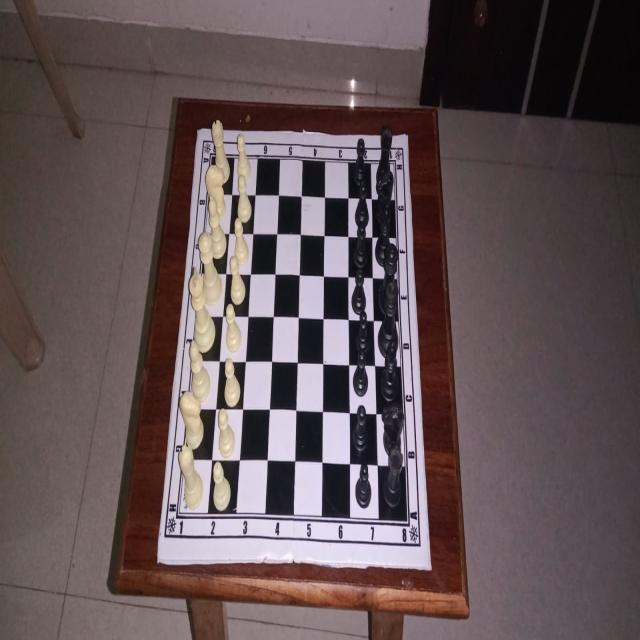corners: (152, 540, 164, 567), (423, 550, 435, 574), (399, 127, 411, 150), (194, 118, 206, 140)
